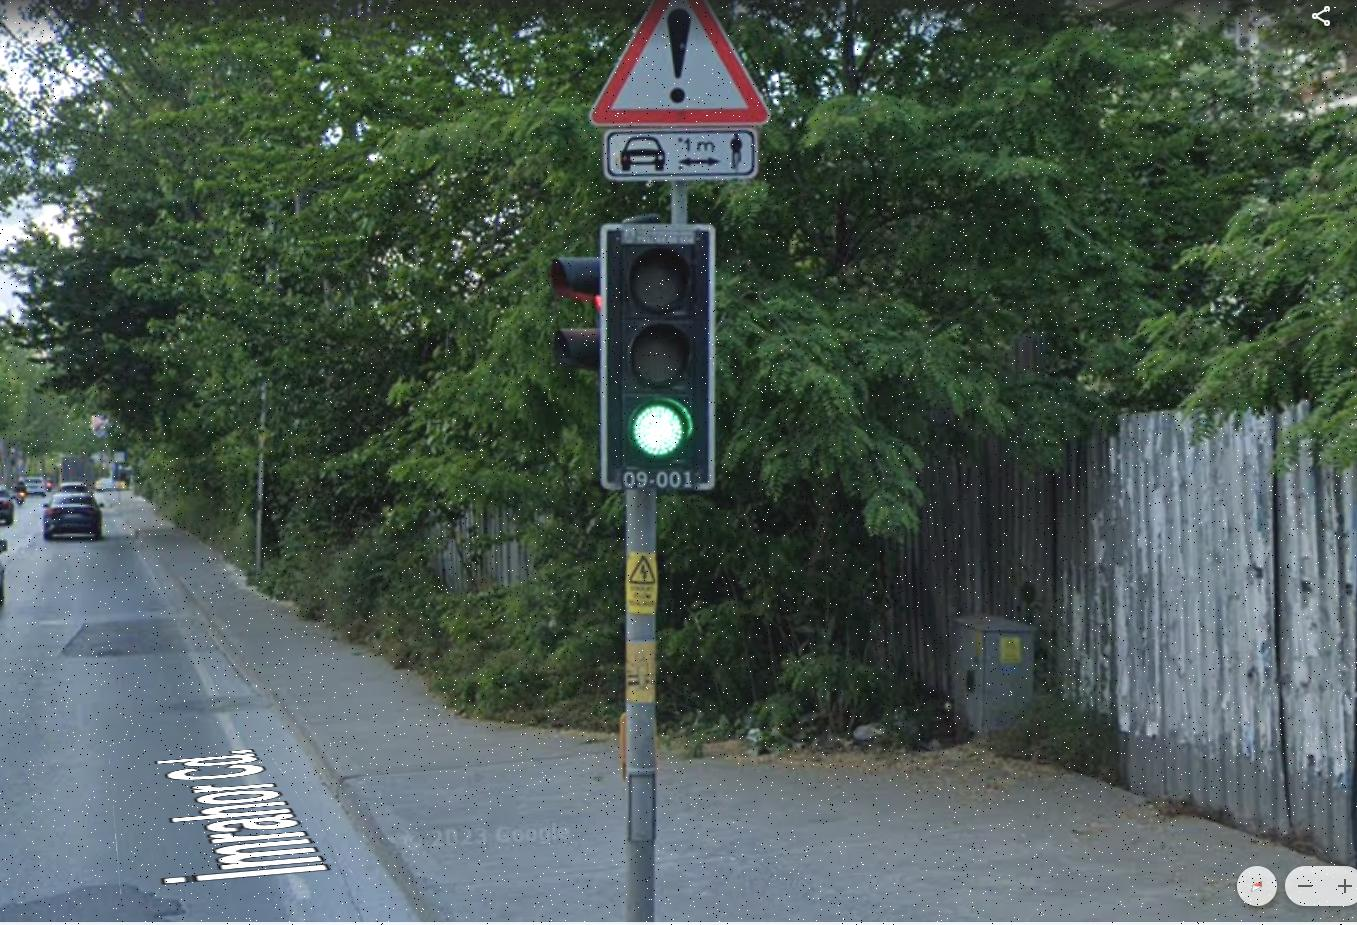greenlight: (607, 229, 709, 483)
